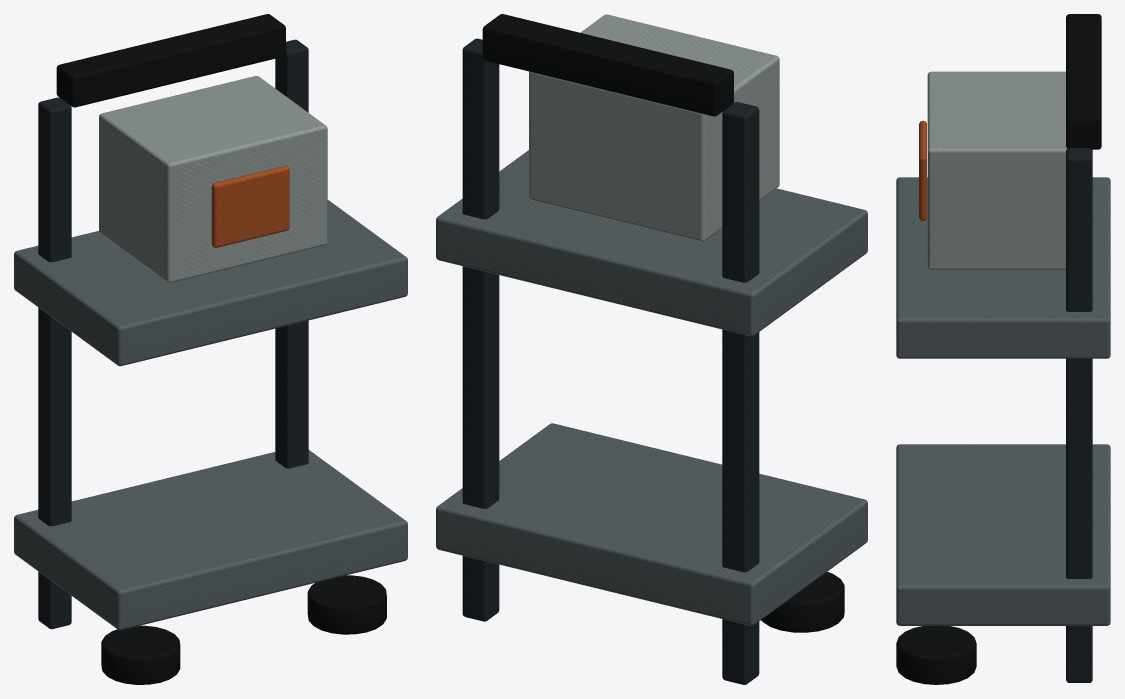
Rendered from MedicalSupplyTrolley.fbx.
The picture shows the model from 3 angles, left to right: view 1: azimuth 30°, elevation 25°; view 2: azimuth 150°, elevation 25°; view 3: azimuth 270°, elevation 25°; orthographic projection. The views are drawn at different scales.
Parts seen in each view (by area): view 1: MedicalSupplyTrolley_Mesh; view 2: MedicalSupplyTrolley_Mesh; view 3: MedicalSupplyTrolley_Mesh.
Boxes of the visible parts, x1=… form: MedicalSupplyTrolley_Mesh: x1=14, y1=14, x2=407, y2=684; MedicalSupplyTrolley_Mesh: x1=436, y1=14, x2=867, y2=684; MedicalSupplyTrolley_Mesh: x1=896, y1=14, x2=1110, y2=684.
Size of the model in its own units: 76 by 137 by 48.
5 materials, 5 textured.
